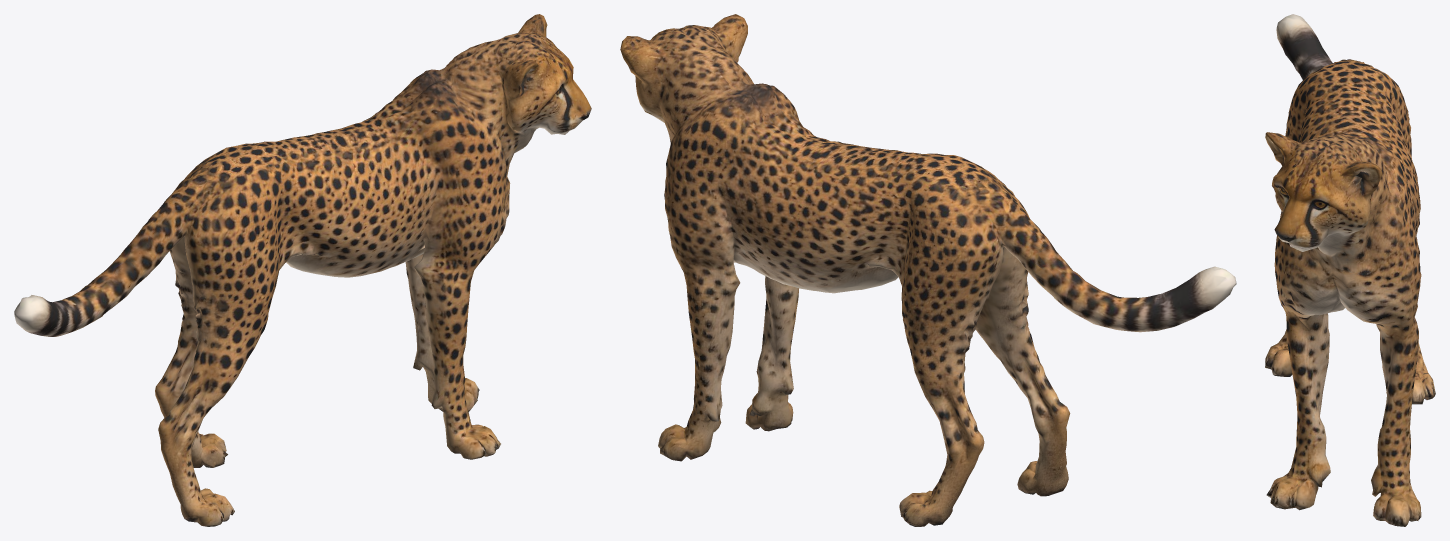
Rendered from TALLYSPOT.glb.
3 renders of one model, left to right at view 1: azimuth 30°, elevation 25°; view 2: azimuth 150°, elevation 25°; view 3: azimuth 270°, elevation 25°, orthographic.
Visible parts, largest first — view 1: tripo_node_7f93a78c-3bb6-4324-9142-c23a5966e903; view 2: tripo_node_7f93a78c-3bb6-4324-9142-c23a5966e903; view 3: tripo_node_7f93a78c-3bb6-4324-9142-c23a5966e903.
Part boxes in pixels (x1=…): tripo_node_7f93a78c-3bb6-4324-9142-c23a5966e903: x1=14, y1=14, x2=591, y2=526; tripo_node_7f93a78c-3bb6-4324-9142-c23a5966e903: x1=620, y1=14, x2=1236, y2=526; tripo_node_7f93a78c-3bb6-4324-9142-c23a5966e903: x1=1265, y1=14, x2=1435, y2=526.
Size of the model in its own units: 1.55 by 1 by 0.3925.
1 material, 1 textured.
